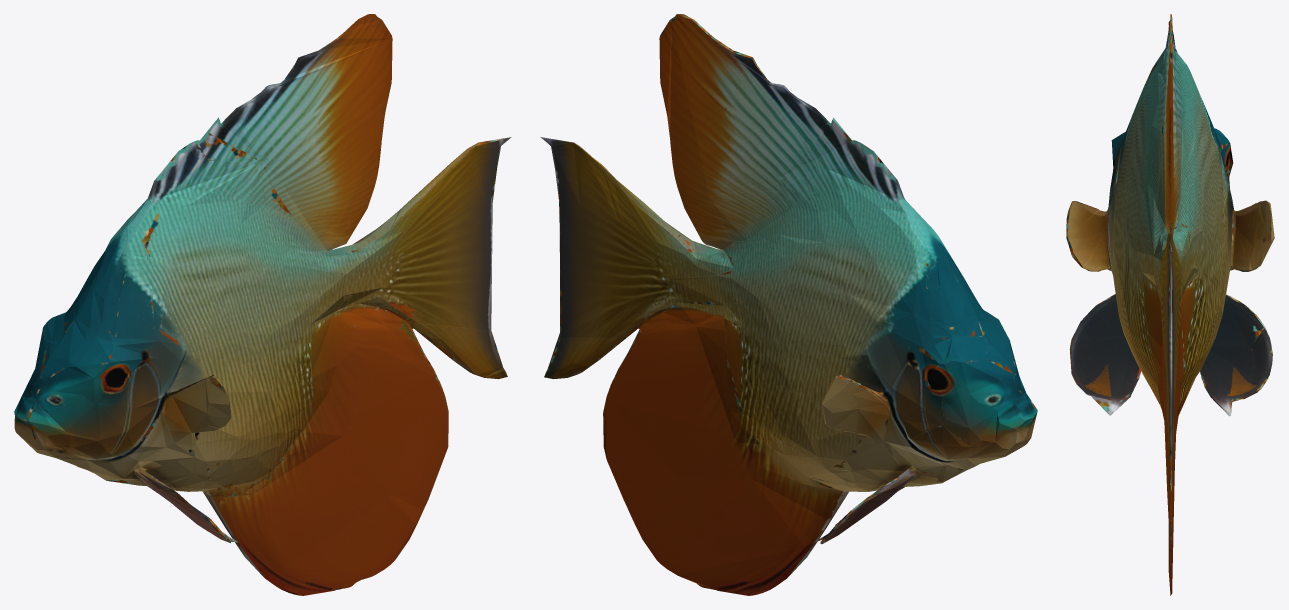
File: fish_0096_smpl23_resized.glb
The picture shows the model from 3 angles, left to right: view 1: azimuth 30°, elevation 25°; view 2: azimuth 150°, elevation 25°; view 3: azimuth 270°, elevation 25°; orthographic projection.
Parts seen in each view (by area): view 1: world; view 2: world; view 3: world.
Boxes of the visible parts, x1,y1,x2,y2 form: world: [14, 14, 511, 595]; world: [540, 14, 1037, 595]; world: [1066, 14, 1274, 595].
Bounding box in the file's own units: 1.81 × 1.99 × 0.6506.
Materials: 1 (1 with a texture image).
